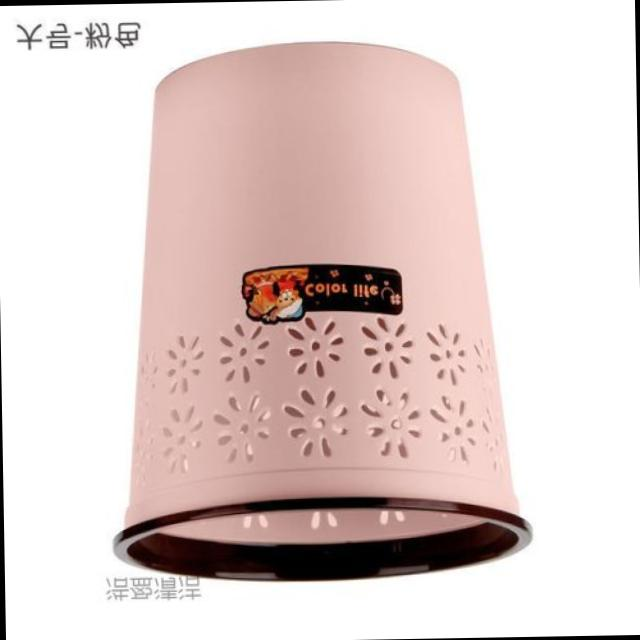dustbin: (104, 29, 538, 590)
